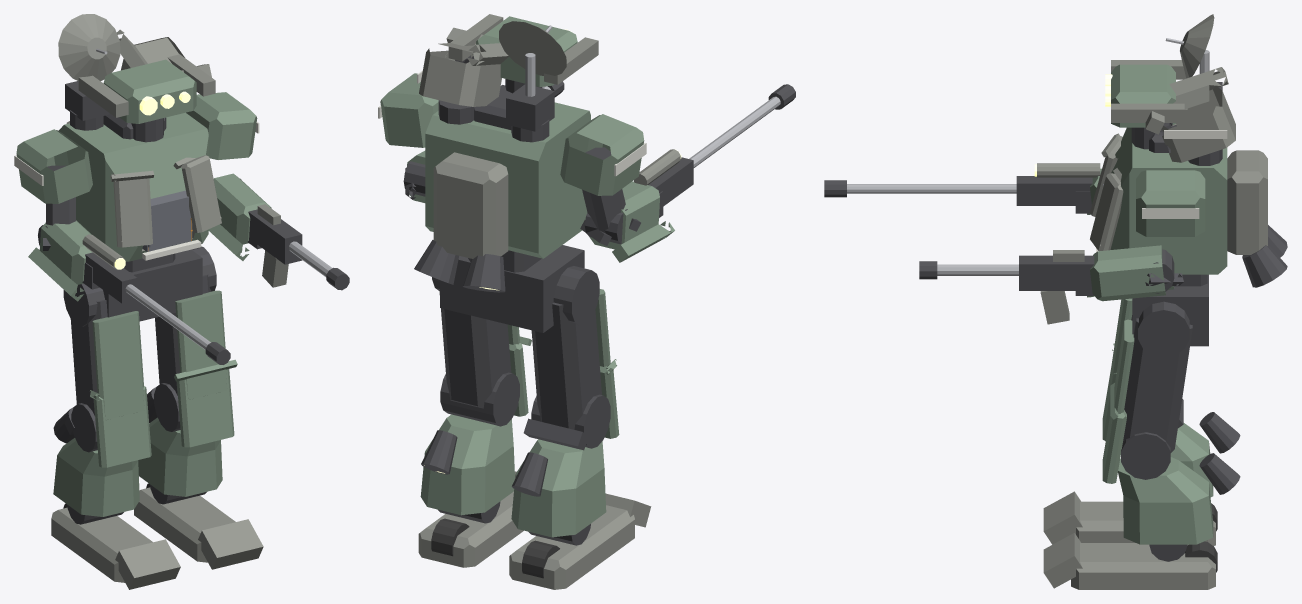
File: longbow.glb
3 views of the same model, side by side, from view 1: azimuth 30°, elevation 25°; view 2: azimuth 150°, elevation 25°; view 3: azimuth 270°, elevation 25° (orthographic). The views are drawn at different scales.
Visible parts, largest first — view 1: core, shin-1, thigh-1_front, shin1, shoulder-1, thigh1_front, helm, foot-1, foot1, hips, kneeguard1, radar-1_dish (+30 smaller); view 2: core, thigh-1, pack, shin1, shin-1, hips, thigh1, shoulder-1, missiles1, foot-1, foot1, shoulder1 (+28 smaller); view 3: core, shin1, foot1, thigh1, missiles1, pack, shoulder1, forearm1, helm, hipball1, rifle1_rec, hips (+21 smaller).
Part boxes in pixels (bbox=[...]): core: bbox=[58, 112, 208, 261]; shin-1: bbox=[53, 438, 139, 516]; thigh-1_front: bbox=[92, 311, 144, 420]; shin1: bbox=[138, 417, 222, 496]; shoulder-1: bbox=[16, 129, 92, 203]; thigh1_front: bbox=[175, 290, 227, 399]; helm: bbox=[103, 59, 196, 123]; foot-1: bbox=[51, 507, 152, 582]; foot1: bbox=[134, 487, 235, 562]; hips: bbox=[103, 249, 202, 321]; kneeguard1: bbox=[174, 359, 237, 447]; radar-1_dish: bbox=[58, 14, 120, 81]; core: bbox=[425, 102, 590, 258]; thigh-1: bbox=[523, 302, 601, 450]; pack: bbox=[433, 152, 508, 258]; shin1: bbox=[420, 414, 514, 515]; shin-1: bbox=[511, 439, 606, 537]; hips: bbox=[440, 245, 584, 332]; thigh1: bbox=[439, 290, 511, 408]; shoulder-1: bbox=[560, 114, 644, 195]; missiles1: bbox=[419, 27, 508, 106]; foot-1: bbox=[509, 505, 634, 589]; foot1: bbox=[418, 491, 523, 567]; shoulder1: bbox=[380, 73, 438, 147]; core: bbox=[1110, 127, 1227, 274]; shin1: bbox=[1118, 457, 1213, 544]; foot1: bbox=[1071, 543, 1215, 589]; thigh1: bbox=[1122, 318, 1192, 452]; missiles1: bbox=[1145, 67, 1235, 162]; pack: bbox=[1227, 150, 1267, 254]; shoulder1: bbox=[1136, 170, 1205, 236]; forearm1: bbox=[1087, 245, 1174, 301]; helm: bbox=[1111, 64, 1175, 127]; hipball1: bbox=[1138, 301, 1189, 357]; rifle1_rec: bbox=[1019, 255, 1094, 290]; hips: bbox=[1132, 274, 1208, 346].
Bounding box in the file's own units: 11.33 × 25.52 × 20.47.
